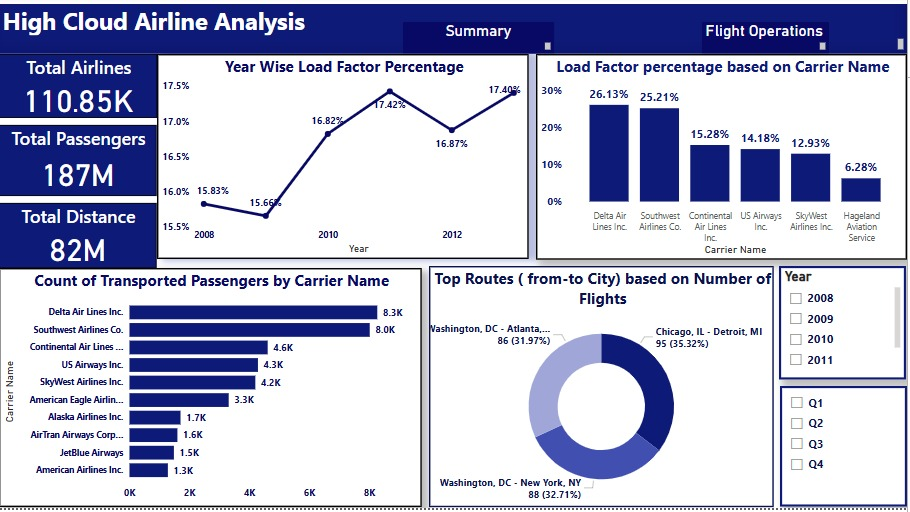

What the dashboard file says about the page in this screenshot:
{"tool":"powerbi","page":{"name":"Page 1","canvas":[1280,720],"ordinal":0},"visuals":[{"type":"lineChart","title":"Year Wise Load Factor Percentage","fields":{"Category":["sql_data-set.Year"],"Y":["Sum(sql_data-set.Load Factor Percentage)"]},"box":[222.7,80.4,524.4,289],"z":0},{"type":"textbox","title":"High Cloud Airline Analysis","box":[0,10,1280,70],"z":1000},{"type":"textbox","title":"Summary","box":[570,35.7,212.9,44.3],"z":2000},{"type":"actionButton","box":[569.5,29.6,212.9,50.7],"z":3000},{"type":"textbox","title":"Flight Operations","box":[991.4,35.7,178.6,44.3],"z":5000},{"type":"actionButton","box":[991,31,179,47.9],"z":6000},{"type":"card","title":"Total Airlines","fields":{"Values":["CountNonNull(sql_data-set.Airline ID)"]},"box":[0,80,222.9,90],"z":7000},{"type":"card","title":"Total Passengers","fields":{"Values":["Sum(sql_data-set. Transported Passengers)"]},"box":[0,180.6,222.2,100],"z":8000},{"type":"card","title":"Total Distance","fields":{"Values":["Sum(sql_data-set.Distance)"]},"box":[0,290.3,222.2,91.7],"z":9000},{"type":"clusteredColumnChart","title":"Load Factor percentage based on Carrier Name","fields":{"Category":["sql_data-set.Carrier Name"],"Y":["Sum(sql_data-set.Load Factor Percentage)"]},"box":[757.1,80,522.9,290],"z":10000},{"type":"barChart","fields":{"Category":["sql_data-set.Carrier Name"],"Y":["CountNonNull(sql_data-set.Transported Passengers)"]},"box":[0,381.4,595.7,337.1],"z":11000},{"type":"donutChart","title":"Top Routes ( from-to City) based on Number of Flights ","fields":{"Category":["sql_data-set.From _To _City"],"Y":["CountNonNull(sql_data-set.Airline ID)"]},"box":[605.7,378.6,485.7,340],"z":12000},{"type":"slicer","title":"Year","fields":{"Values":["sql_data-set.Year2"]},"box":[1100,378.6,178.6,160],"z":13000},{"type":"slicer","fields":{"Values":["sql_data-set.Quarter"]},"box":[1101.4,548.6,178.6,170],"z":14000}]}

Visuals, with their boxes in screenshot pixels (x1, y1, x2, y2), scaled from the page's 1280x720 canvas onto the 910x512 screenshot:
"Year Wise Load Factor Percentage" lineChart: x1=158 y1=57 x2=531 y2=263
"High Cloud Airline Analysis" textbox: x1=0 y1=7 x2=909 y2=57
"Summary" textbox: x1=405 y1=25 x2=557 y2=57
actionButton: x1=405 y1=21 x2=556 y2=57
"Flight Operations" textbox: x1=705 y1=25 x2=832 y2=57
actionButton: x1=705 y1=22 x2=832 y2=56
"Total Airlines" card: x1=0 y1=57 x2=158 y2=121
"Total Passengers" card: x1=0 y1=128 x2=158 y2=200
"Total Distance" card: x1=0 y1=206 x2=158 y2=272
"Load Factor percentage based on Carrier Name" clusteredColumnChart: x1=538 y1=57 x2=909 y2=263
barChart - sql_data-set.Carrier Name x CountNonNull(sql_data-set.Transported Passengers): x1=0 y1=271 x2=424 y2=511
"Top Routes ( from-to City) based on Number of Flights " donutChart: x1=431 y1=269 x2=776 y2=511
"Year" slicer: x1=782 y1=269 x2=909 y2=383
slicer - sql_data-set.Quarter: x1=783 y1=390 x2=909 y2=511
